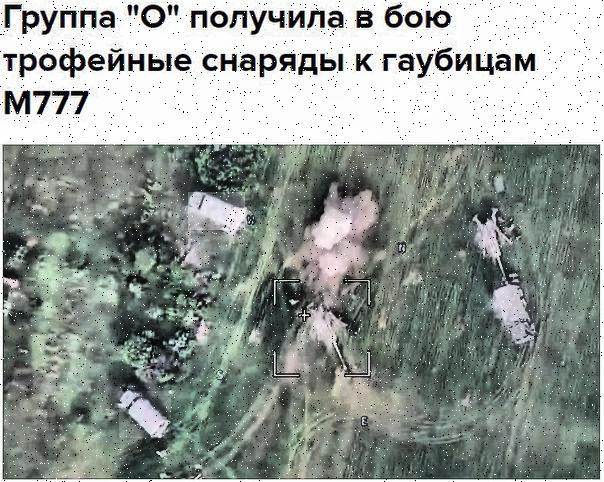military-vehicle: (493, 282, 535, 347), (119, 391, 171, 438), (188, 192, 245, 230)
